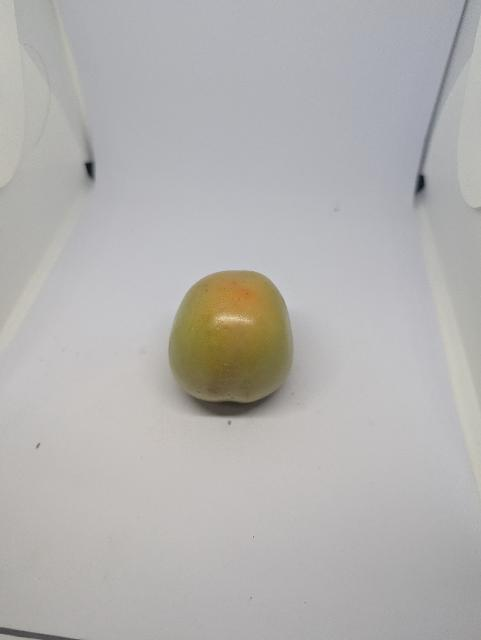breaker: (168, 268, 299, 407)
